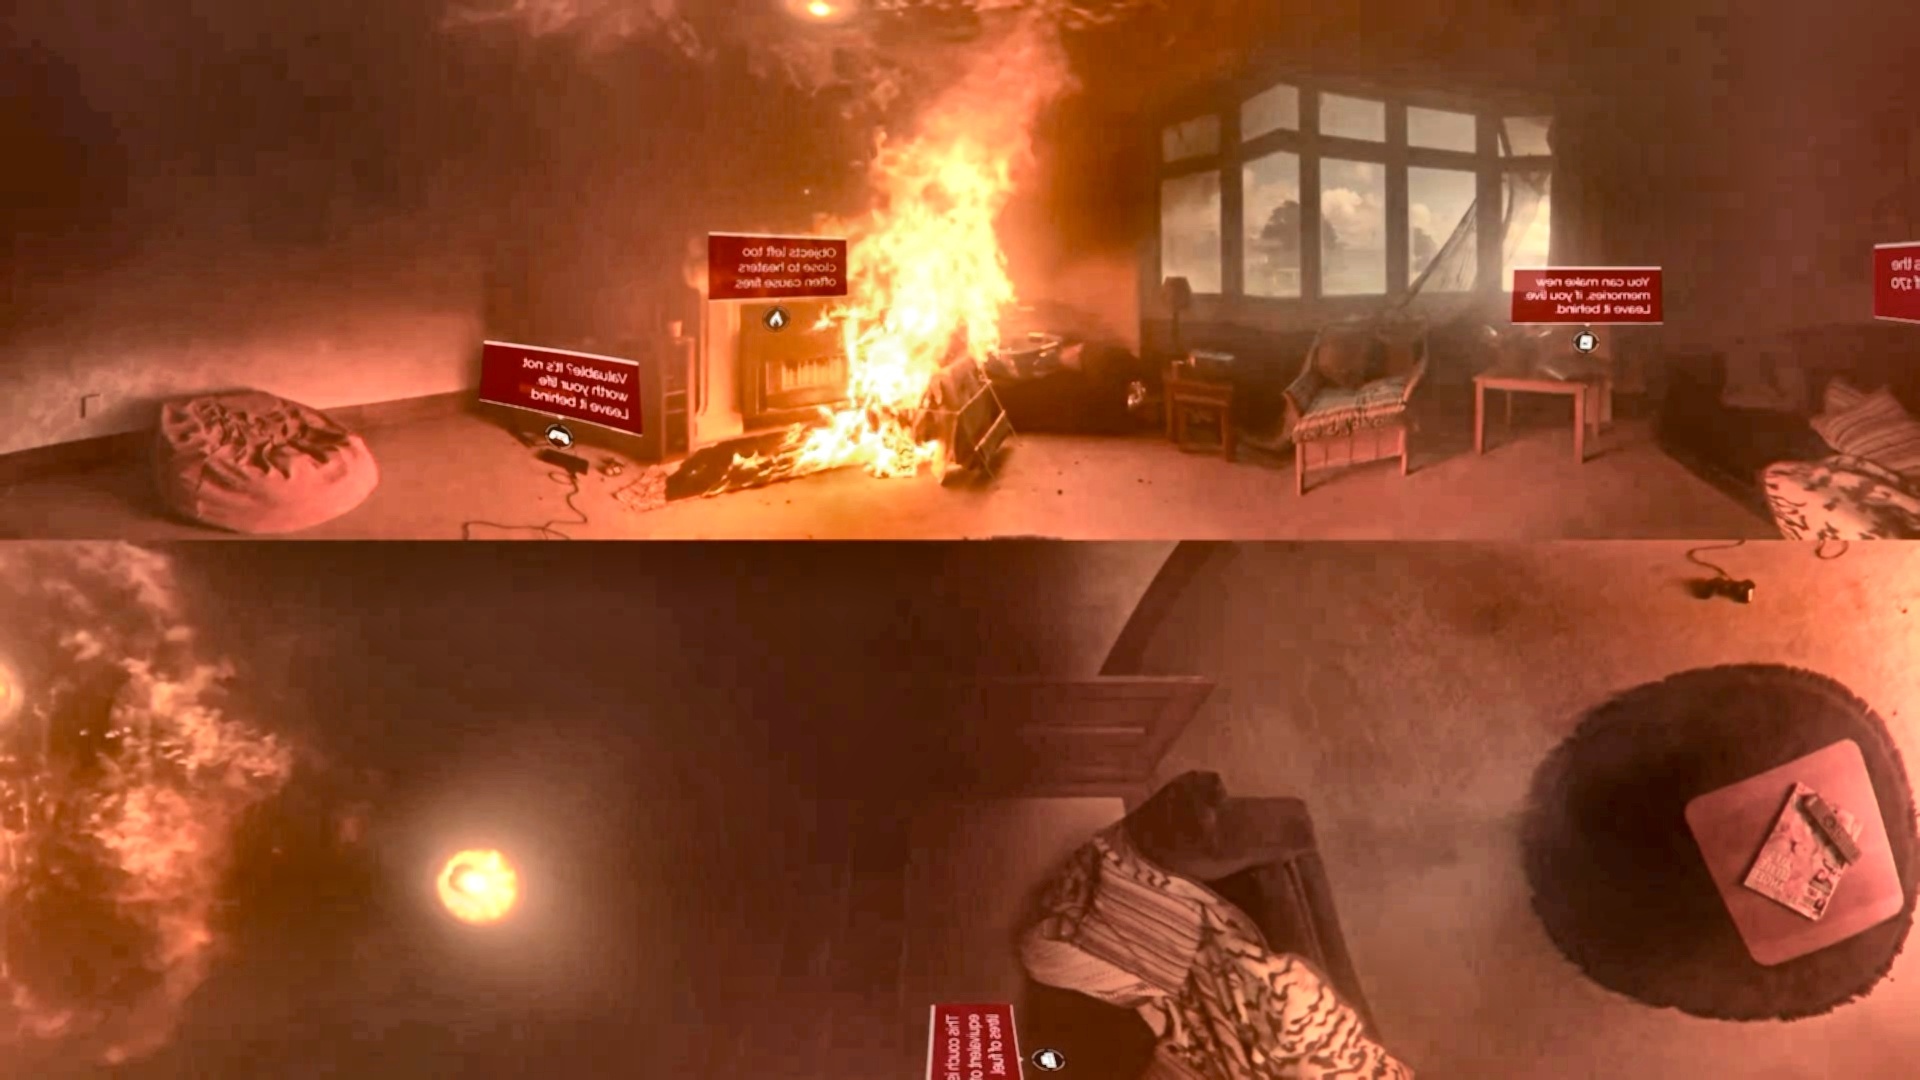fire: (818, 0, 1054, 458)
